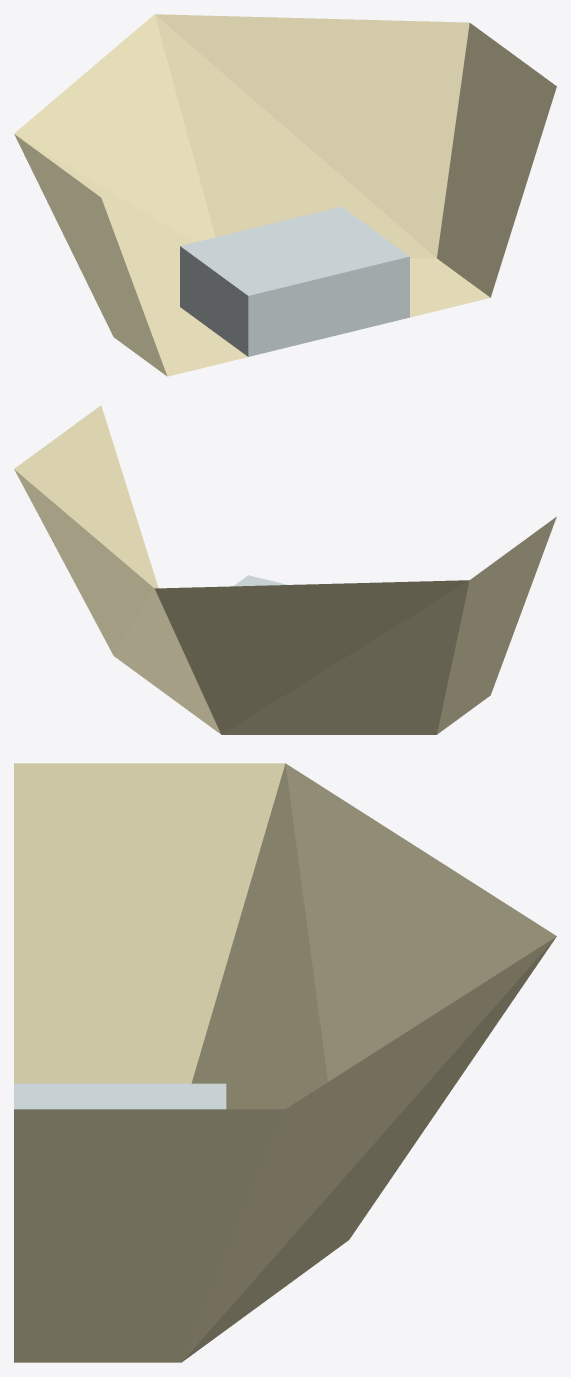
The model's file is lamp-wall.glb.
3 renders of one model, top to bottom at view 1: azimuth 30°, elevation 25°; view 2: azimuth 150°, elevation 25°; view 3: azimuth 270°, elevation 25°, orthographic. The views are drawn at different scales.
Parts seen in each view (by area): view 1: Mesh1, Mesh0; view 2: Mesh1; view 3: Mesh1, Mesh0.
Part boxes in pixels (x1,y1,x2,y2): Mesh1: (14, 14, 556, 376); Mesh0: (180, 206, 409, 356); Mesh1: (14, 405, 556, 734); Mesh1: (14, 763, 556, 1362); Mesh0: (14, 1083, 226, 1109).
Bounding box in the file's own units: 0.2266 × 0.0928 × 0.1503.
